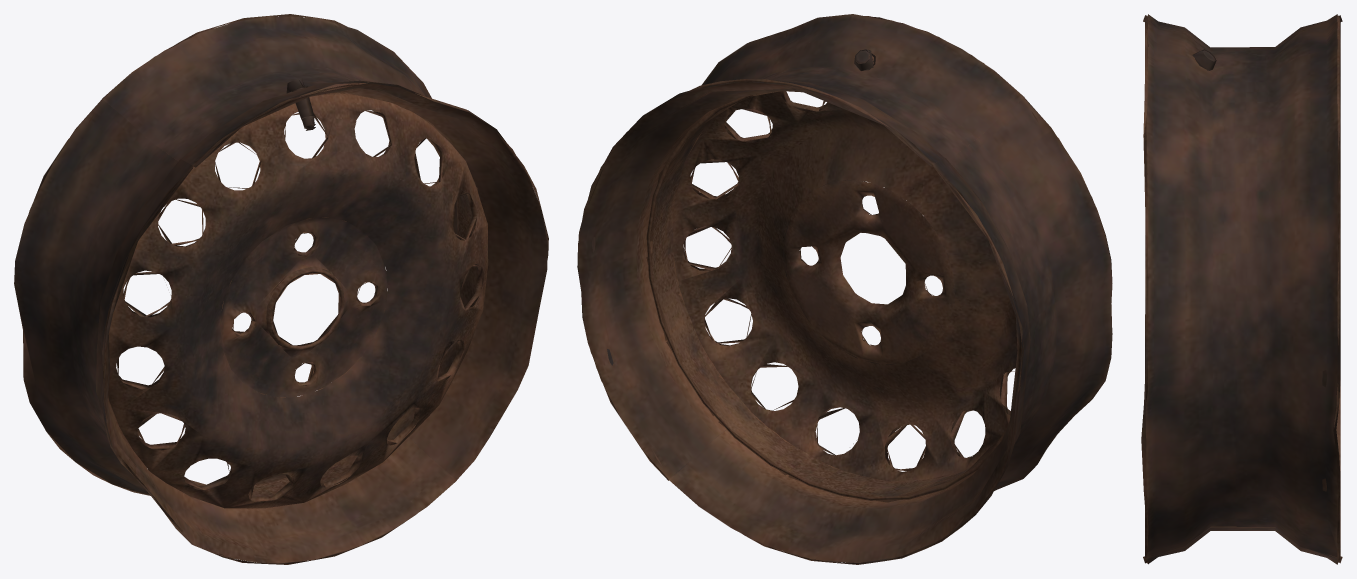
Rendered from rusted_wheel_rim_02_lod.glb.
The picture shows the model from 3 angles, left to right: view 1: azimuth 30°, elevation 25°; view 2: azimuth 150°, elevation 25°; view 3: azimuth 270°, elevation 25°; orthographic projection. The views are drawn at different scales.
Visible parts, largest first — view 1: rusted_wheel_rim_02; view 2: rusted_wheel_rim_02; view 3: rusted_wheel_rim_02.
Boxes of the visible parts, <box> form: rusted_wheel_rim_02: <box>14,14,548,564</box>; rusted_wheel_rim_02: <box>577,14,1112,564</box>; rusted_wheel_rim_02: <box>1141,14,1342,564</box>.
Bounding box in the file's own units: 0.3345 × 0.3384 × 0.1232.
1 material, 1 textured.
